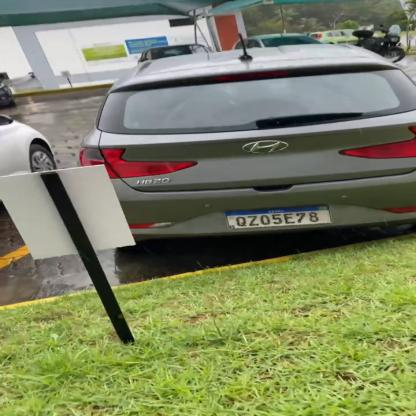Plate: (219, 199, 336, 230)
